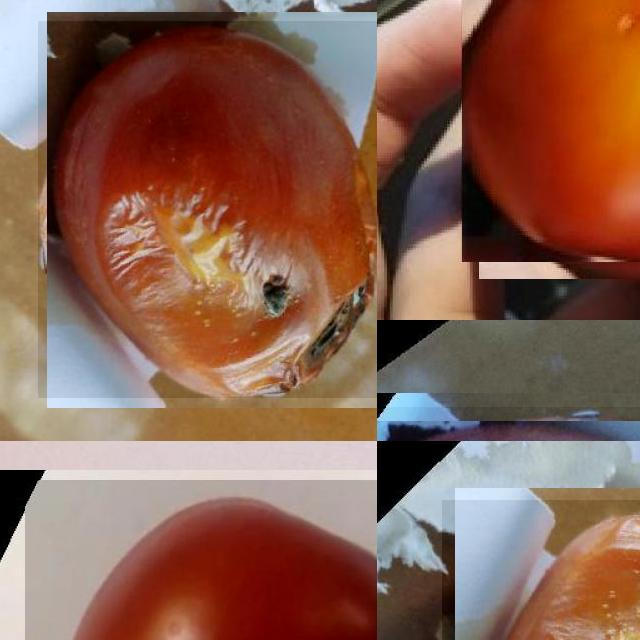Fresh Tomato: (25, 480, 377, 640)
Rotten Tomato: (37, 20, 377, 398), (442, 500, 640, 640)
